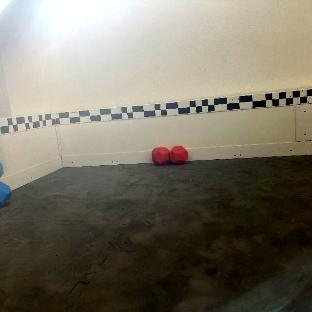V5_BLUE: (0, 162, 11, 206)
V5_RED: (151, 145, 188, 165)
